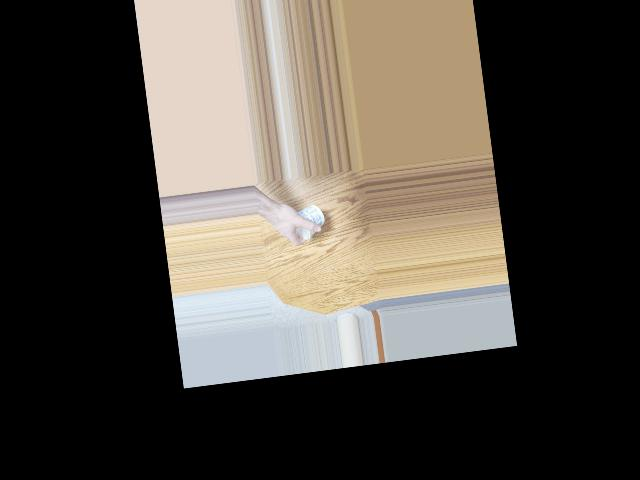cotage: (293, 200, 328, 242)
